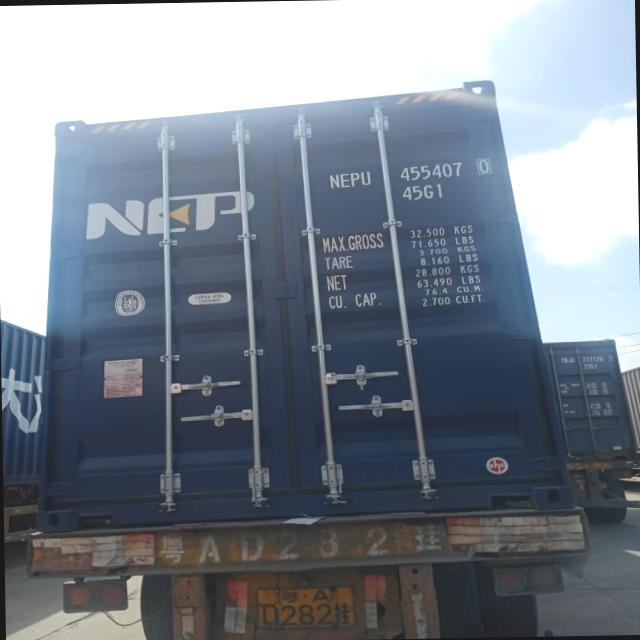seal: (354, 369, 365, 392)
